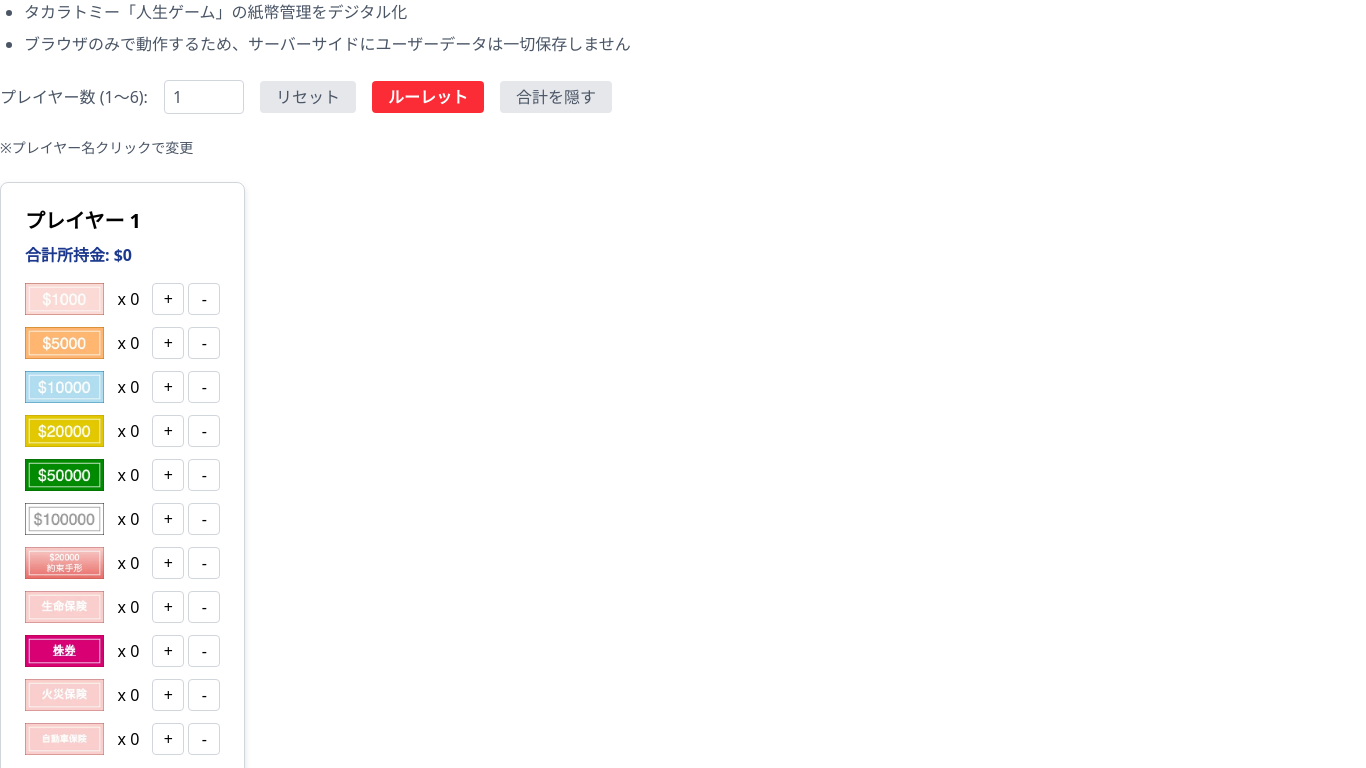
MainContent › モーダルの閉じるボタンでモーダルが閉じる
The width and height of the screenshot is (1366, 768).
Click the button "ルーレット": (428, 97) [372,81,484,113]
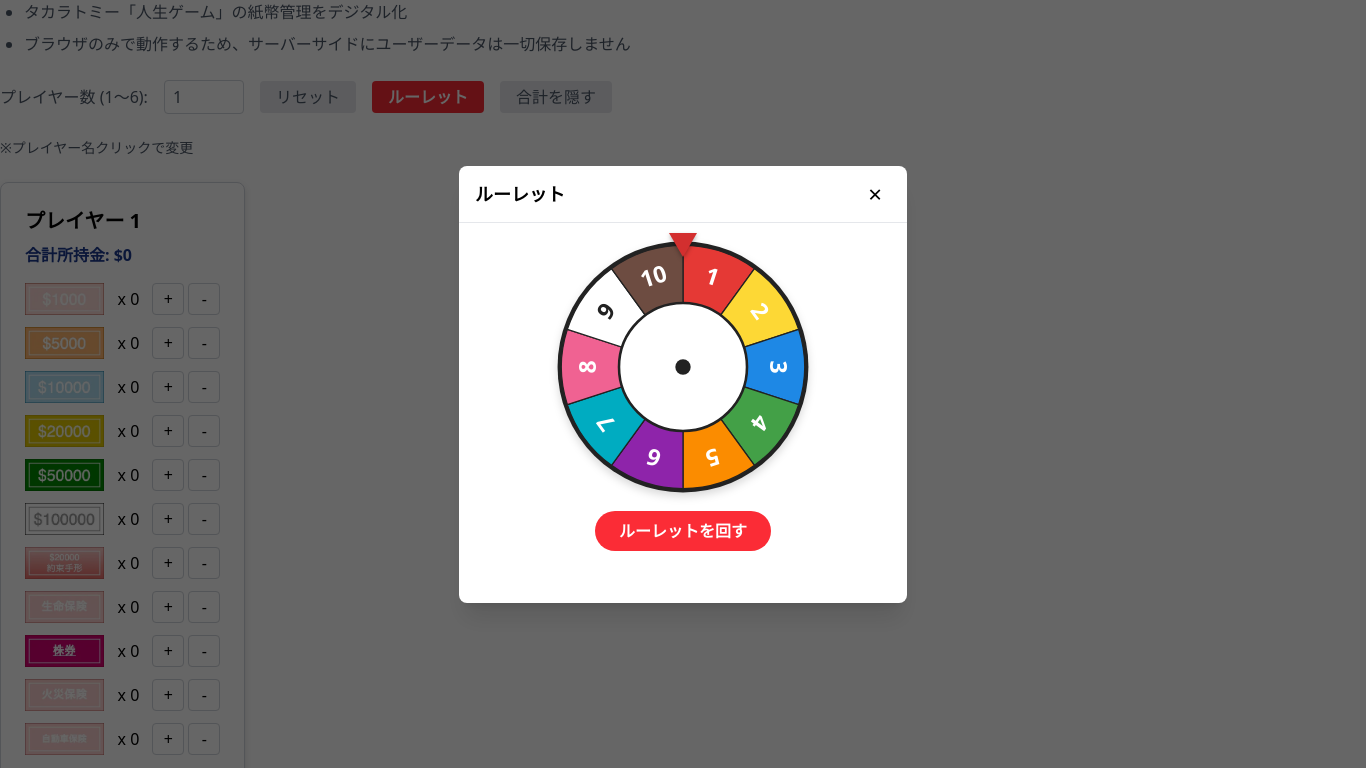
Check: the dialog is shown
Click the button named "閉じる": (875, 194) [859,178,891,210]
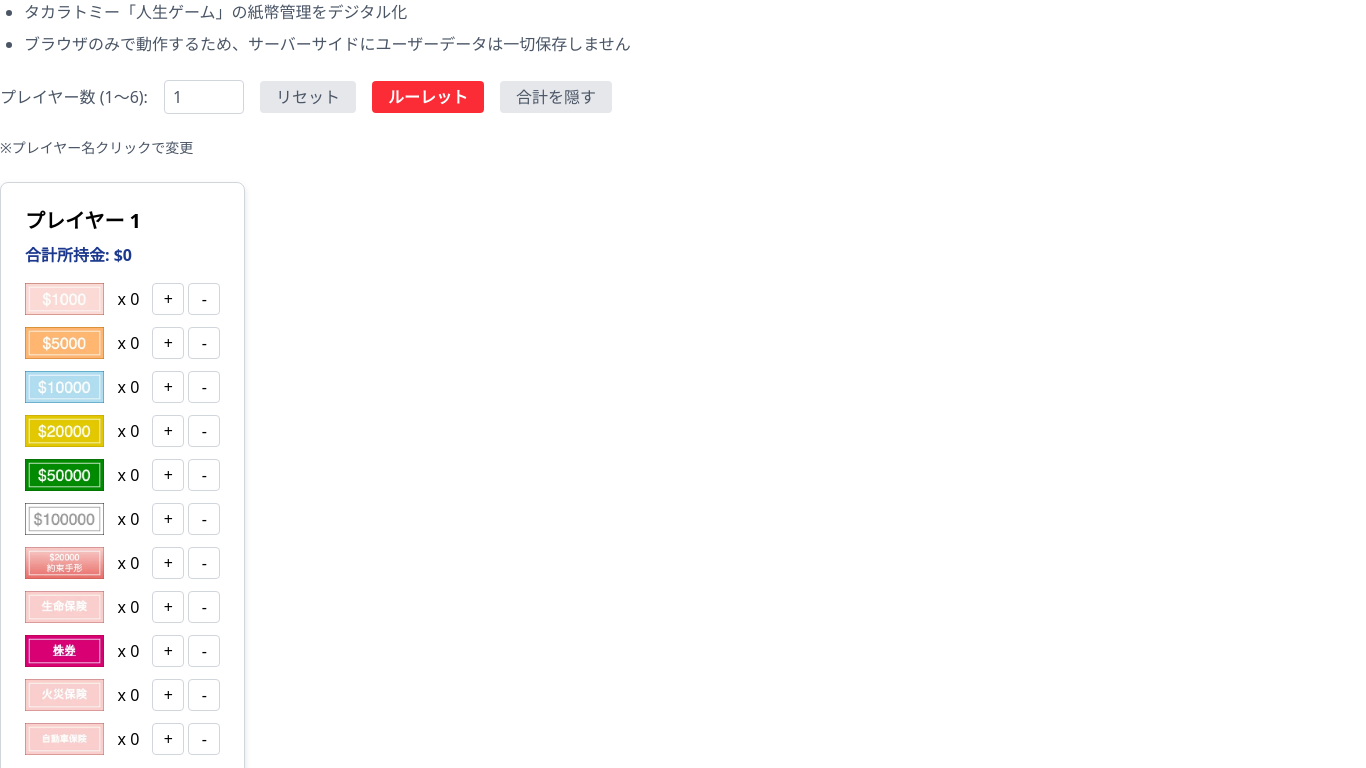
Check: the dialog is gone
